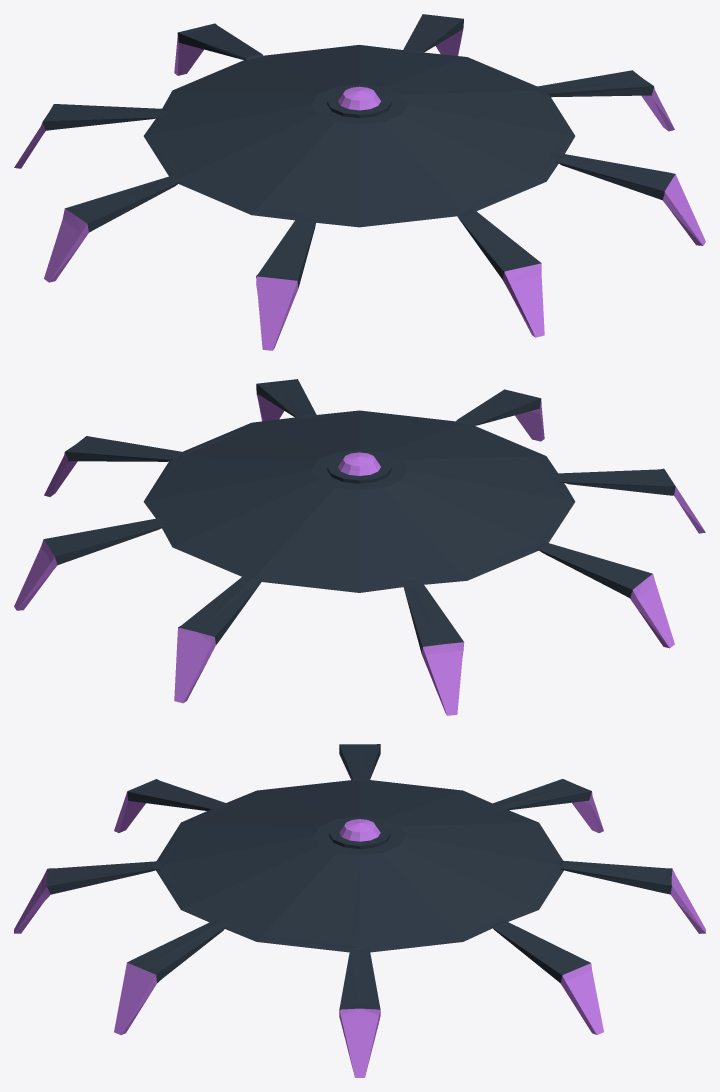
File: Spider_Plant_000007.obj
3 renders of one model, top to bottom at view 1: azimuth 30°, elevation 25°; view 2: azimuth 150°, elevation 25°; view 3: azimuth 270°, elevation 25°, orthographic. The views are drawn at different scales.
Parts seen in each view (by area): view 1: Circle_Circle.001; view 2: Circle_Circle.001; view 3: Circle_Circle.001.
Part boxes in pixels (box(x1,y1,x2,y2)): Circle_Circle.001: box(14, 14, 705, 350); Circle_Circle.001: box(14, 379, 705, 715); Circle_Circle.001: box(14, 744, 705, 1077).
Bounding box in the file's own units: 3.35 × 0.5808 × 3.35.
